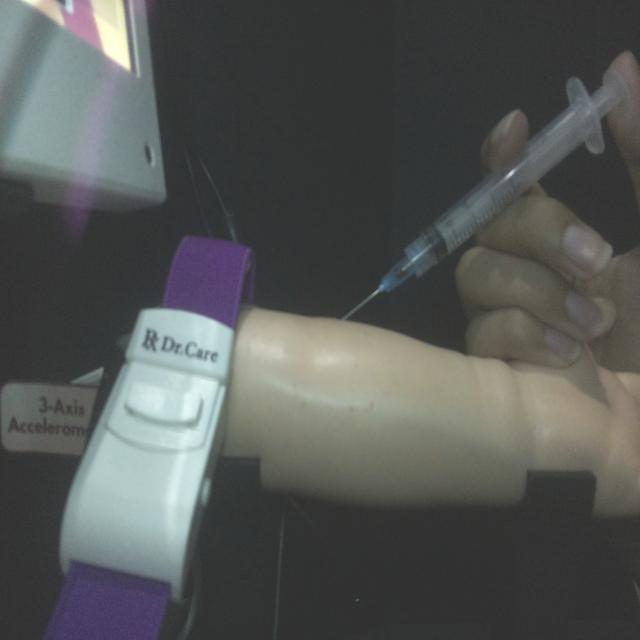30 degrees: (342, 65, 633, 326)
